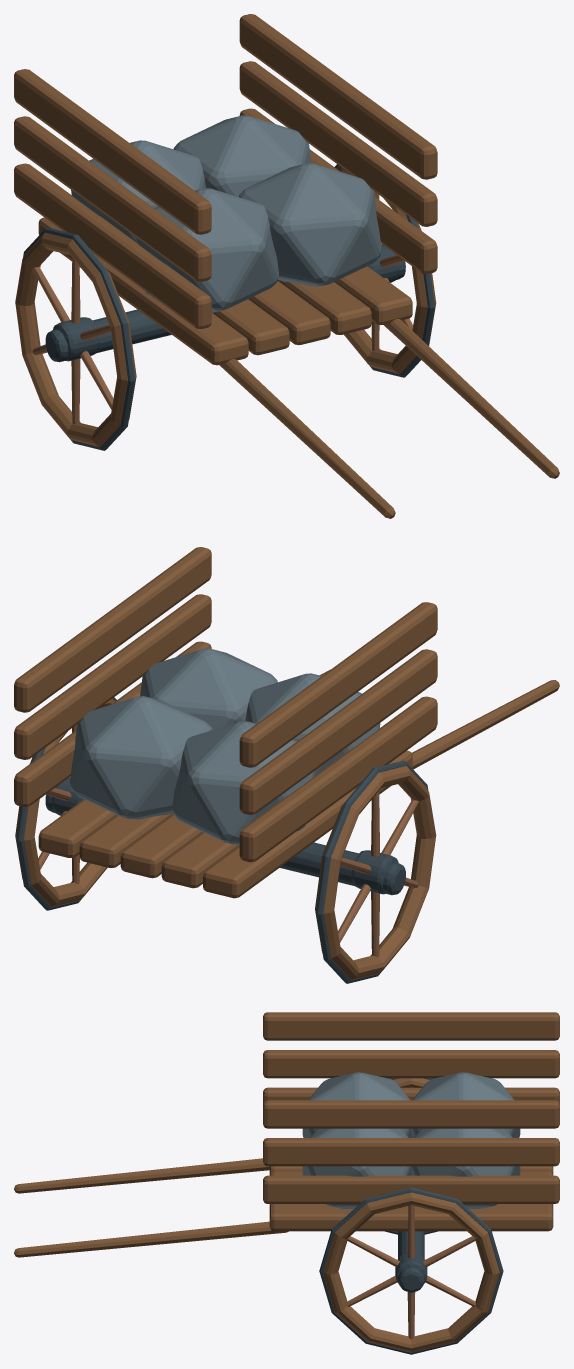
The model's file is quarry_cart.glb.
The picture shows the model from 3 angles, top to bottom: view 1: azimuth 30°, elevation 25°; view 2: azimuth 150°, elevation 25°; view 3: azimuth 270°, elevation 25°; orthographic projection. The views are drawn at different scales.
Parts seen in each view (by area): view 1: BedPlank.001, QuarriedStone.001, WheelRim.002, IronTyre.002, WheelSpoke.001, WheelRim.003, Axle.001, IronTyre.003; view 2: BedPlank.001, QuarriedStone.001, WheelRim.002, IronTyre.002, WheelRim.003, WheelSpoke.001, Axle.001, IronTyre.003, WheelSpoke.008; view 3: BedPlank.001, QuarriedStone.001, WheelRim.003, IronTyre.003, WheelSpoke.008, Axle.001.
Part boxes in pixels (box(x1,y1,x2,y2)): BedPlank.001: box(14, 14, 559, 518); QuarriedStone.001: box(71, 115, 381, 312); WheelRim.002: box(15, 233, 136, 446); IronTyre.002: box(23, 227, 135, 450); WheelSpoke.001: box(32, 258, 113, 423); WheelRim.003: box(336, 165, 436, 373); Axle.001: box(45, 261, 405, 362); IronTyre.003: box(334, 164, 434, 377); BedPlank.001: box(14, 547, 559, 898); QuarriedStone.001: box(69, 648, 380, 845); WheelRim.002: box(315, 765, 436, 980); IronTyre.002: box(316, 760, 428, 983); WheelRim.003: box(15, 698, 114, 906); WheelSpoke.001: box(338, 790, 418, 957); Axle.001: box(45, 794, 405, 895); IronTyre.003: box(16, 697, 116, 910); WheelSpoke.008: box(38, 724, 79, 883); BedPlank.001: box(14, 1012, 559, 1257); QuarriedStone.001: box(302, 1072, 520, 1208); WheelRim.003: box(323, 1192, 499, 1352); IronTyre.003: box(319, 1187, 503, 1354); WheelSpoke.008: box(347, 1205, 475, 1339); Axle.001: box(398, 1231, 424, 1292).
Bounding box in the file's own units: 1.7 × 1.39 × 2.89.
